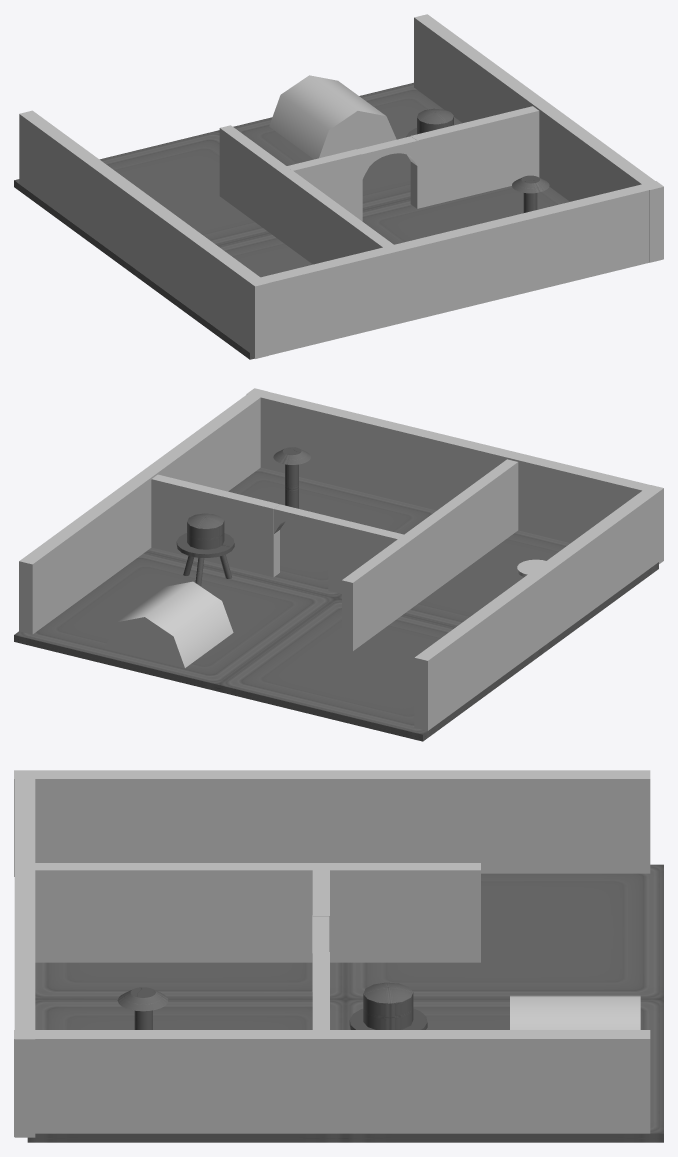
Rendered from Level 1.fbx.
3 renders of one model, top to bottom at view 1: azimuth 30°, elevation 25°; view 2: azimuth 150°, elevation 25°; view 3: azimuth 270°, elevation 25°, orthographic. The views are drawn at different scales.
Visible parts, largest first — view 1: MainWall003, floor, MainWall1, MainWall2, Box001, Box002, Cylinder002, Box003, ArchWay, Cone001, Cylinder001; view 2: floor, MainWall003, MainWall1, MainWall2, Box001, Box002, Cylinder002, Box003, Cylinder001, Cone001, ArchWay; view 3: MainWall2, MainWall1, floor, Box001, MainWall003, Cylinder002, Cylinder001, Box002, Cone001, Box003, ArchWay.
Boxes of the visible parts, x1=… form: MainWall003: x1=248, y1=181, x2=663, y2=355; floor: x1=14, y1=82, x2=569, y2=359; MainWall1: x1=19, y1=110, x2=268, y2=358; MainWall2: x1=414, y1=14, x2=663, y2=262; Box001: x1=219, y1=125, x2=393, y2=264; Box002: x1=410, y1=106, x2=539, y2=208; Cylinder002: x1=269, y1=75, x2=396, y2=159; Box003: x1=287, y1=149, x2=362, y2=221; ArchWay: x1=357, y1=136, x2=418, y2=182; Cone001: x1=512, y1=175, x2=549, y2=212; Cylinder001: x1=406, y1=108, x2=453, y2=137; floor: x1=14, y1=467, x2=658, y2=741; MainWall003: x1=246, y1=388, x2=649, y2=543; MainWall1: x1=414, y1=485, x2=663, y2=730; MainWall2: x1=19, y1=388, x2=267, y2=634; Box001: x1=342, y1=459, x2=518, y2=651; Box002: x1=151, y1=474, x2=279, y2=577; Cylinder002: x1=104, y1=581, x2=233, y2=667; Box003: x1=328, y1=517, x2=403, y2=593; Cylinder001: x1=176, y1=513, x2=234, y2=586; Cone001: x1=273, y1=447, x2=310, y2=508; ArchWay: x1=274, y1=504, x2=333, y2=546; MainWall2: x1=14, y1=1030, x2=650, y2=1136; MainWall1: x1=14, y1=770, x2=650, y2=876; floor: x1=27, y1=864, x2=663, y2=1142; Box001: x1=35, y1=863, x2=480, y2=962; MainWall003: x1=14, y1=770, x2=35, y2=1137; Cylinder002: x1=510, y1=995, x2=640, y2=1029; Cylinder001: x1=349, y1=982, x2=427, y2=1029; Box002: x1=312, y1=952, x2=329, y2=1029; Cone001: x1=117, y1=987, x2=168, y2=1029; Box003: x1=312, y1=870, x2=329, y2=951; ArchWay: x1=312, y1=915, x2=329, y2=991.
Bounding box in the file's own units: 501 × 91.2 × 511.
